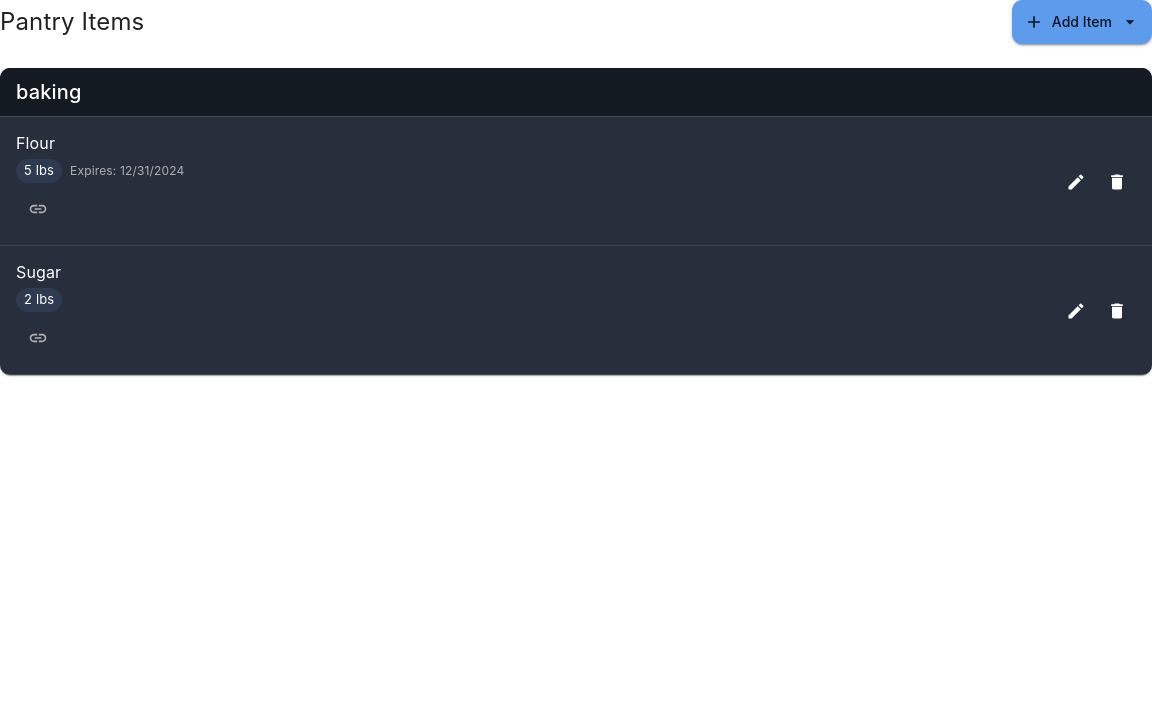
Test: PantryManager Component › Edit Item Dialog › should open edit dialog when edit button is clicked
Note: Find and click edit button for first item
Step 1. Click the button named "edit item" in the row of "5 lbs" → (1076, 182), box [1054,160,1098,204]
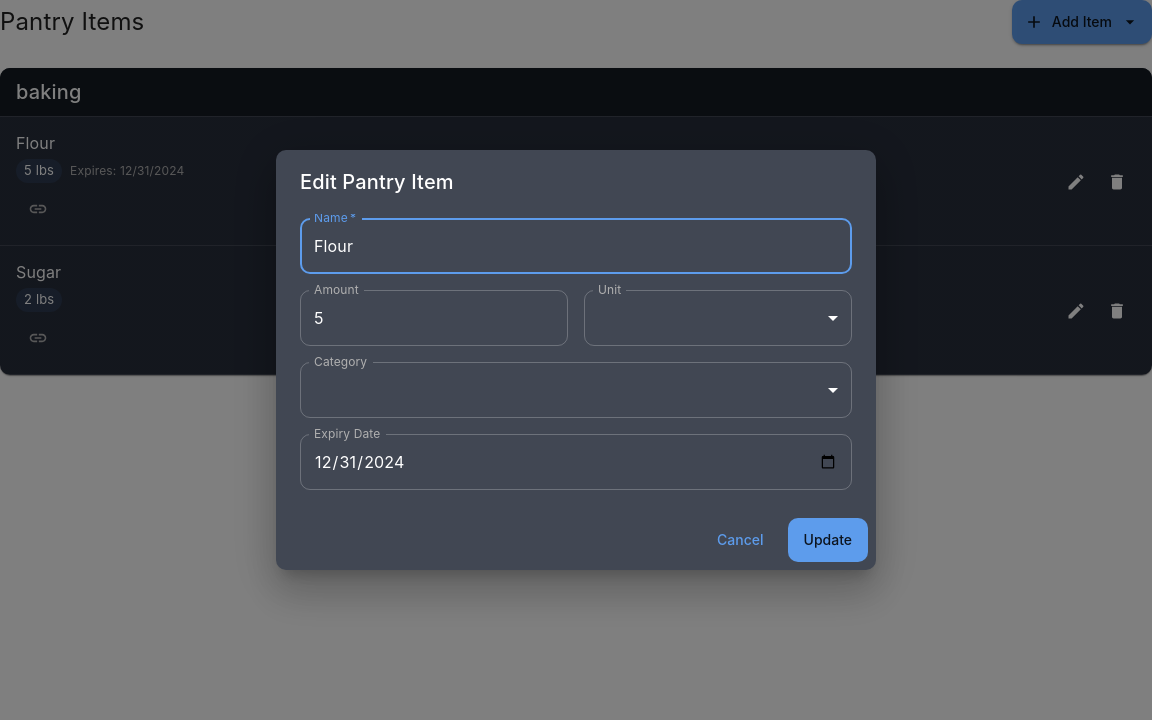
Check: the heading "Edit Pantry Item" is shown, box [300,170,454,194]
Check: the field showing "Flour" is shown, box [300,218,852,274]
Check: the number field showing "5" is shown, box [300,290,568,346]
